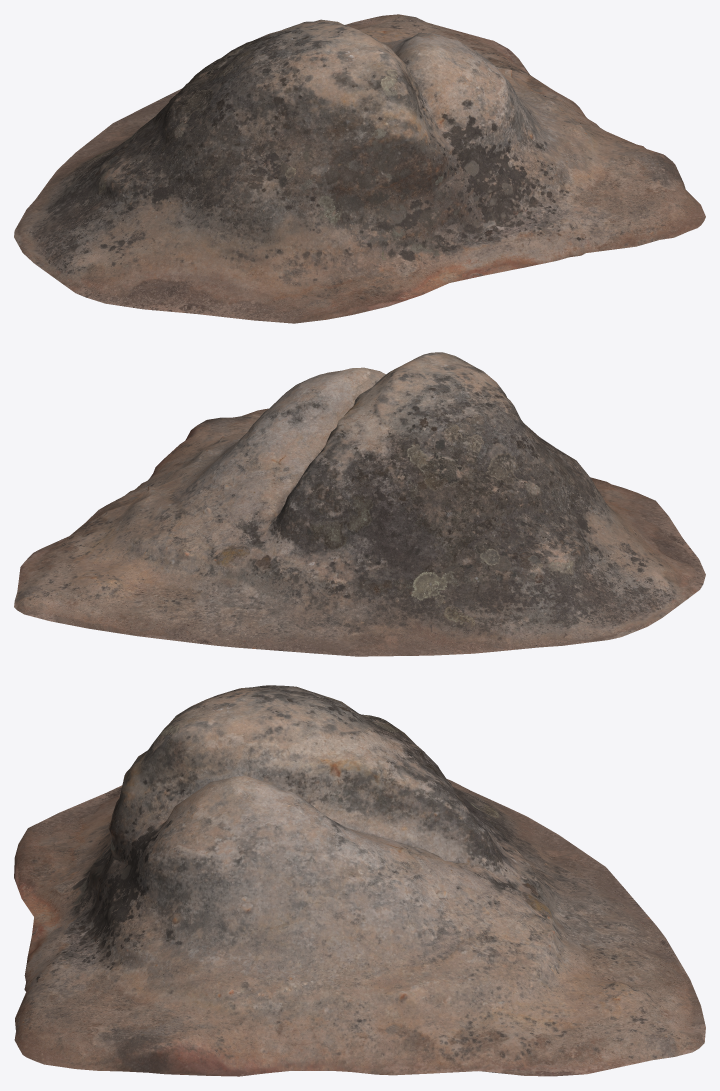
The model's file is SM_ycwrbj0_tier_2.gltf.
3 renders of one model, top to bottom at view 1: azimuth 30°, elevation 25°; view 2: azimuth 150°, elevation 25°; view 3: azimuth 270°, elevation 25°, orthographic. The views are drawn at different scales.
Parts seen in each view (by area): view 1: ycwrbj0_LOD2_TIER2_000; view 2: ycwrbj0_LOD2_TIER2_000; view 3: ycwrbj0_LOD2_TIER2_000.
Part boxes in pixels (bbox=[...]): ycwrbj0_LOD2_TIER2_000: bbox=[14, 14, 705, 323]; ycwrbj0_LOD2_TIER2_000: bbox=[14, 352, 705, 656]; ycwrbj0_LOD2_TIER2_000: bbox=[14, 685, 705, 1076].
Size of the model in its own units: 1.3 by 0.3854 by 1.18.
Materials: 1 (1 with a texture image).
